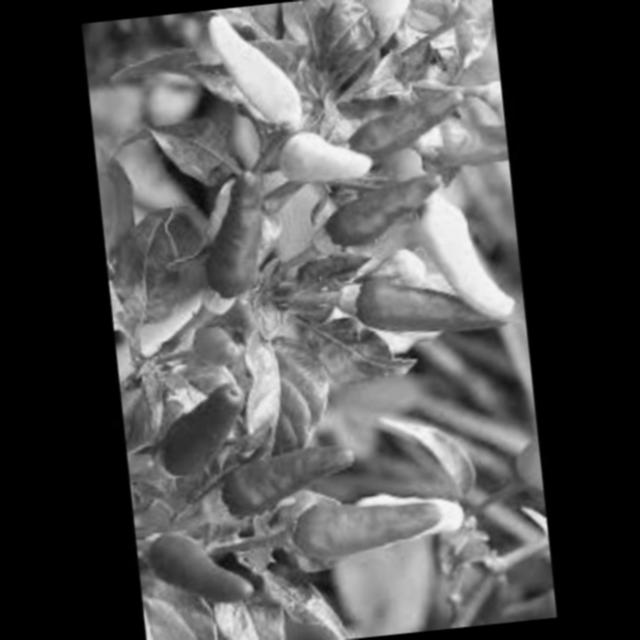hot pepper: (407, 180, 527, 336), (196, 1, 313, 143), (348, 256, 516, 352), (194, 156, 286, 313), (218, 441, 363, 527), (283, 497, 446, 572), (150, 518, 267, 622), (155, 380, 261, 487), (319, 170, 448, 254), (348, 86, 473, 166), (272, 128, 386, 198), (412, 104, 512, 178), (405, 0, 498, 53), (353, 0, 423, 60), (458, 566, 518, 626), (189, 321, 254, 376), (450, 64, 507, 125)
